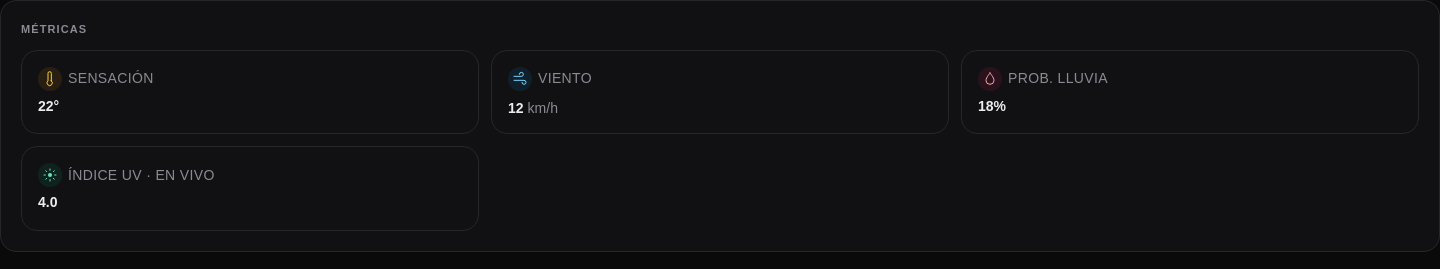
Test case: AirConditionsGrid › renders a graceful em-dash when no daily sum is available
Click the button "Prob. lluvia 18%" at (1058, 78), box left=961, top=50, right=1419, bottom=134
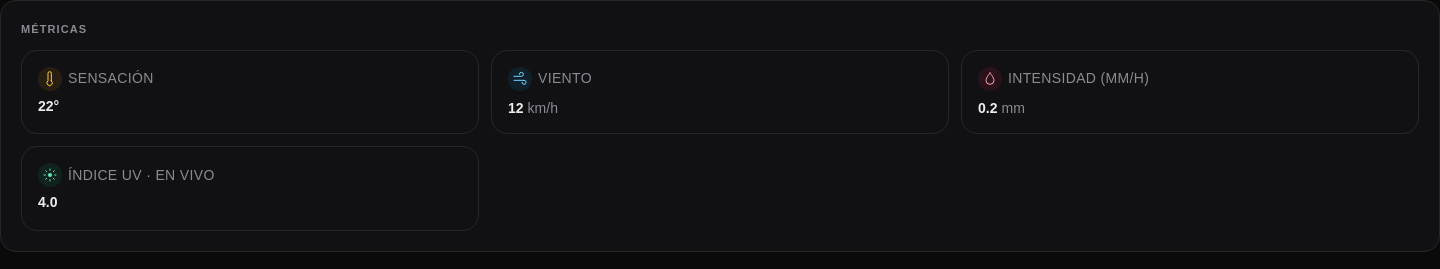
Click the button "Intensidad (mm/h) 0.2 mm" at (1079, 78), box left=961, top=50, right=1419, bottom=134
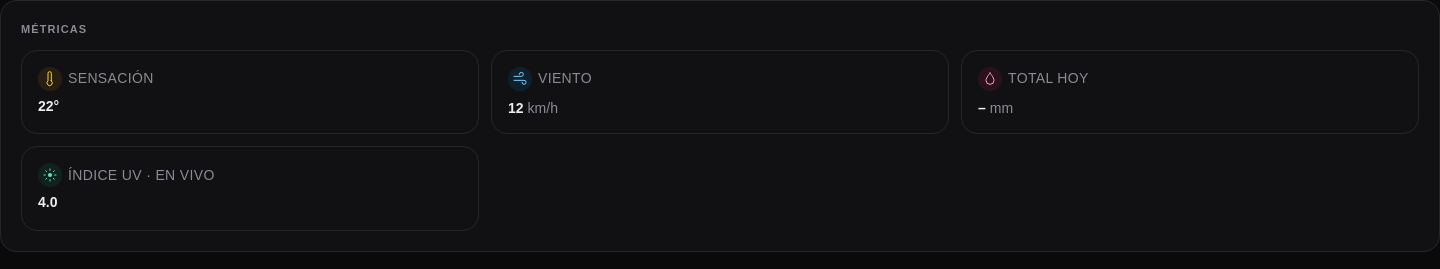
Check: the text "Total hoy" is shown, box left=1008, top=68, right=1089, bottom=89
Check: the text "–" is shown, box left=978, top=100, right=986, bottom=114
